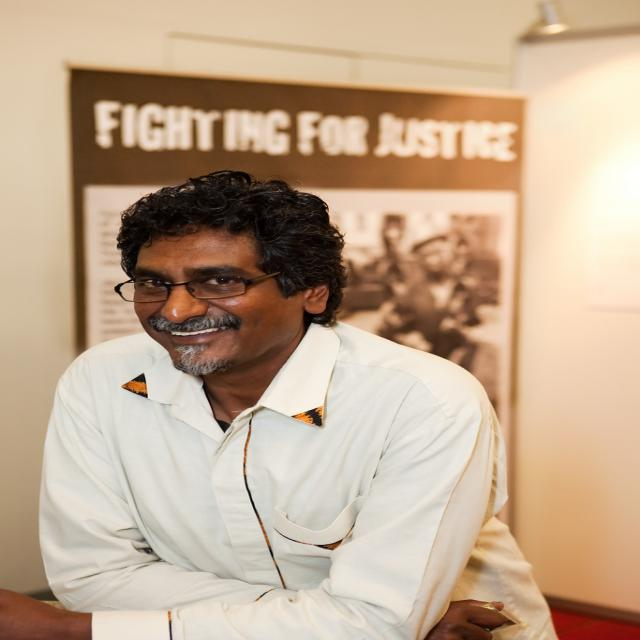Glasses: (115, 266, 282, 306)
